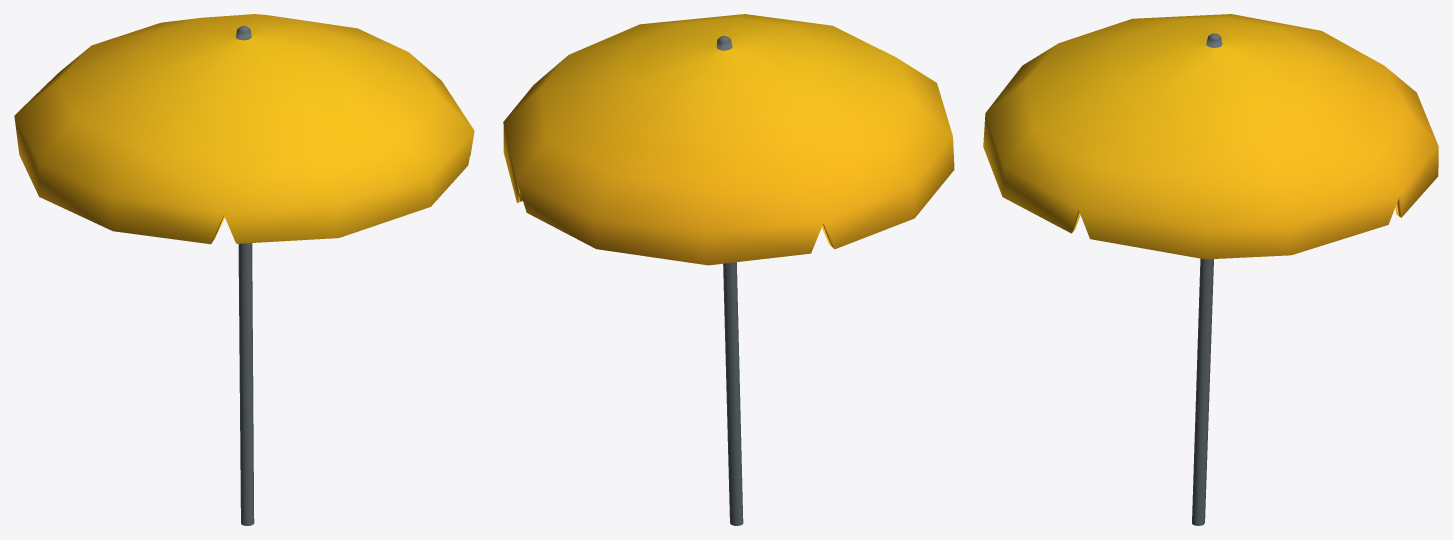
The model's file is Umbrella_Orange.fbx.
The picture shows the model from 3 angles, left to right: view 1: azimuth 30°, elevation 25°; view 2: azimuth 150°, elevation 25°; view 3: azimuth 270°, elevation 25°; orthographic projection.
Visible parts, largest first — view 1: Umbrella_Orange; view 2: Umbrella_Orange; view 3: Umbrella_Orange.
Boxes of the visible parts, x1,y1,x2,y2 form: Umbrella_Orange: (14, 14, 474, 525); Umbrella_Orange: (503, 14, 954, 525); Umbrella_Orange: (983, 14, 1438, 525).
Bounding box in the file's own units: 187 × 223 × 187.
Materials: 1 (1 with a texture image).
